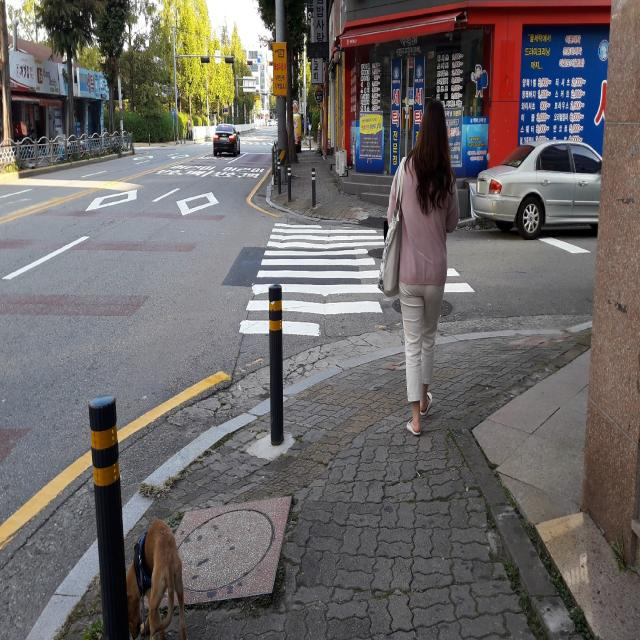횡단보도: (238, 222, 476, 337)
